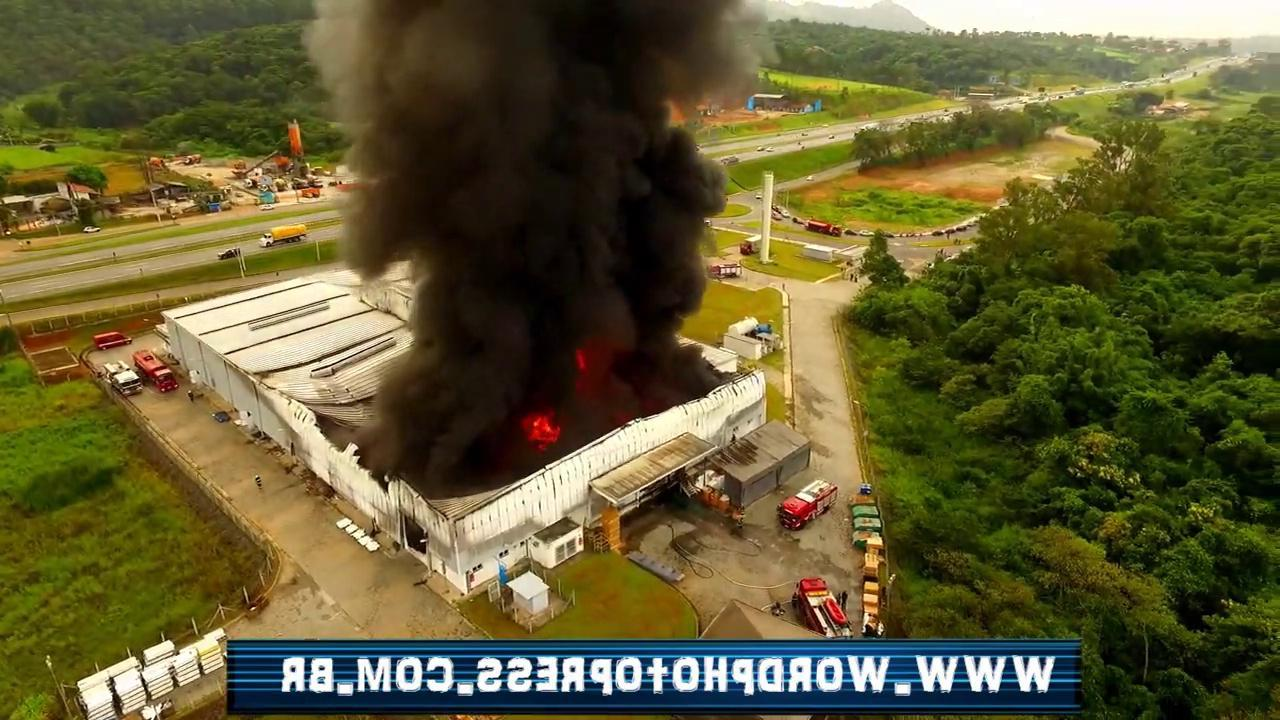Fire: (516, 407, 565, 452)
